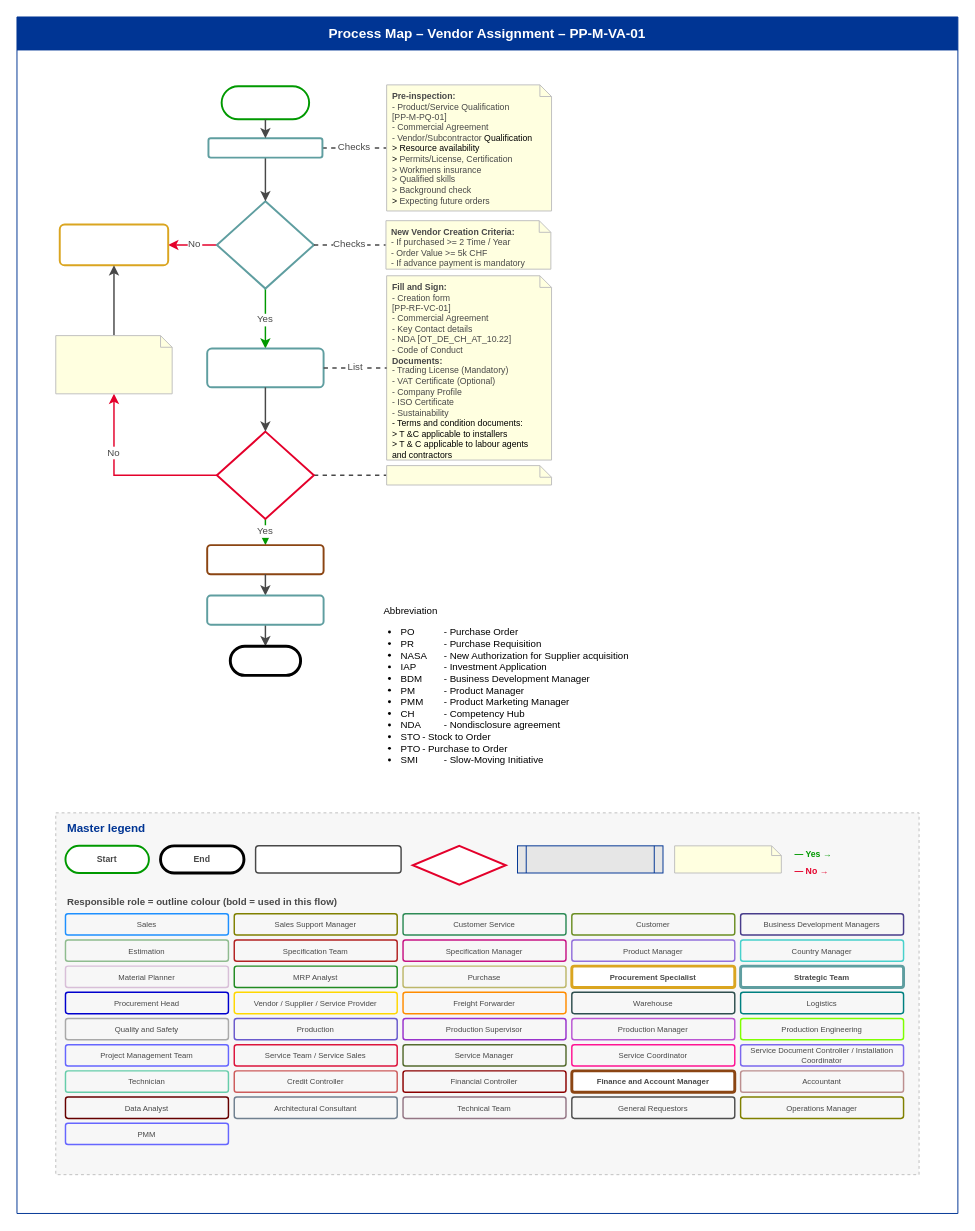
Some shapes in this 975 by 1231 pixel diagram are drawn without their labels. The box of each missing label's shape, as (x1, y1, x2, y2) in pixels:
Activity (outline = role): (254, 845, 401, 873)
Approval: (215, 430, 314, 519)
Approval by NASA Team: (386, 465, 552, 485)
Collect vendor Details & Documents, Vendor Screening: (206, 347, 324, 388)
Communicate Supplier and internal Buyers: (206, 594, 324, 625)
Create Vendor in SAP and Share code: (206, 544, 324, 575)
Decision: (411, 844, 506, 885)
EXIT: (228, 644, 302, 676)
Linked process (Ref ID): (517, 845, 663, 873)
Local Approval Level: ■ Procurement Head ■ Finance DVP ■ BDM / PM: (55, 335, 172, 394)
New Vendor creation needed ?: (215, 200, 314, 289)
Note / checklist: (674, 845, 781, 873)
proceed with “One-Time-Vendor”: (58, 223, 169, 266)
Vendor Assignment: (220, 85, 310, 120)
Vendor onboarding: (207, 137, 323, 158)
